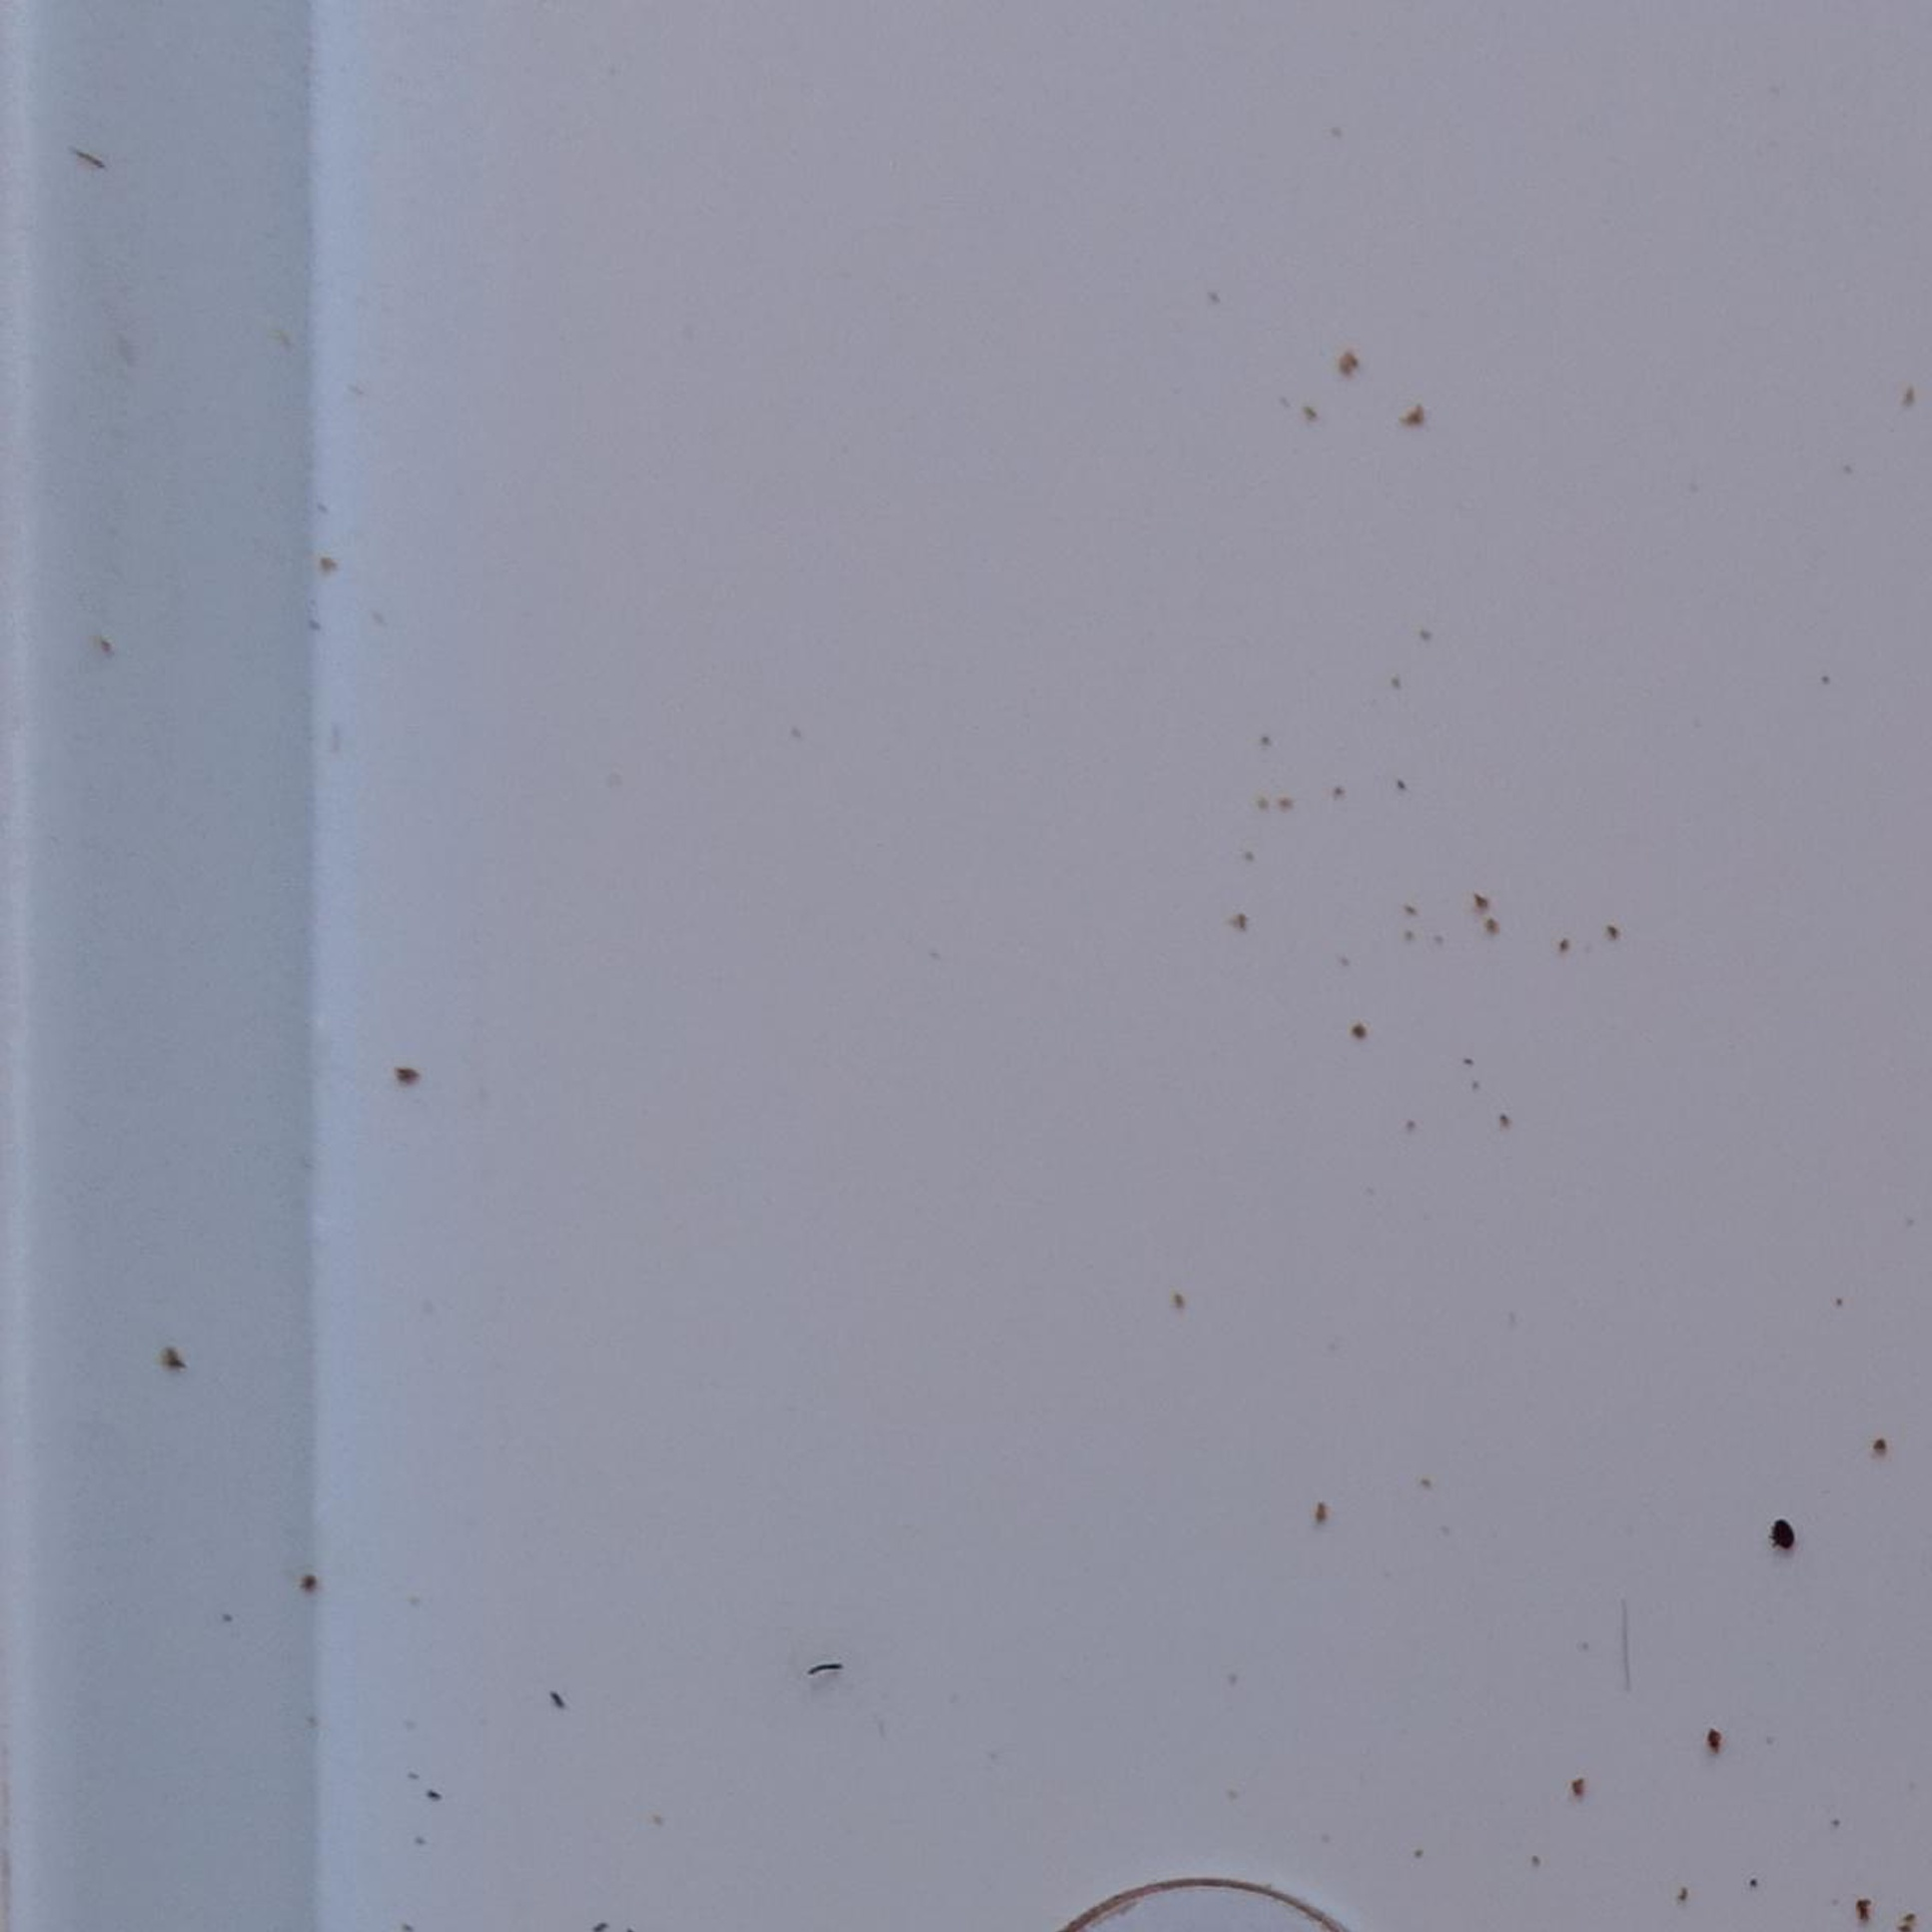Varroa: (1771, 1518, 1798, 1545)
